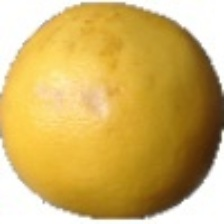grapes: (52, 40, 203, 177)
